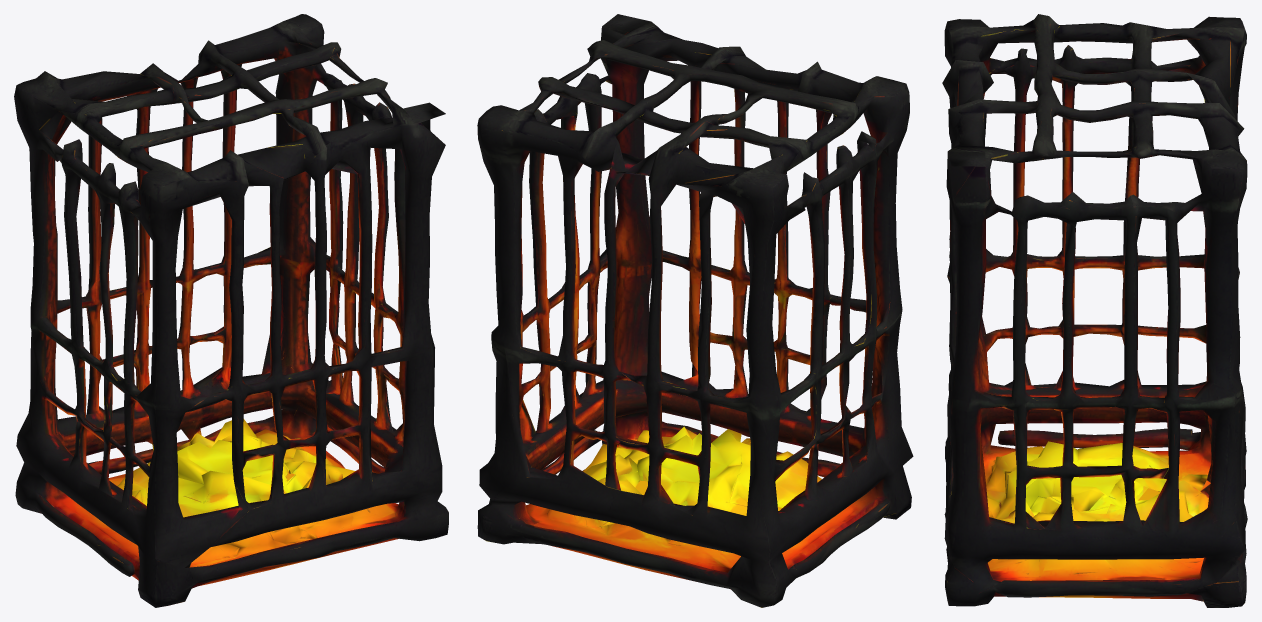
Rendered from z1_cage.glb.
3 renders of one model, left to right at view 1: azimuth 30°, elevation 25°; view 2: azimuth 150°, elevation 25°; view 3: azimuth 270°, elevation 25°, orthographic. The views are drawn at different scales.
Size of the model in its own units: 1.4 by 1.91 by 1.16.
Materials: 1 (1 with a texture image).
